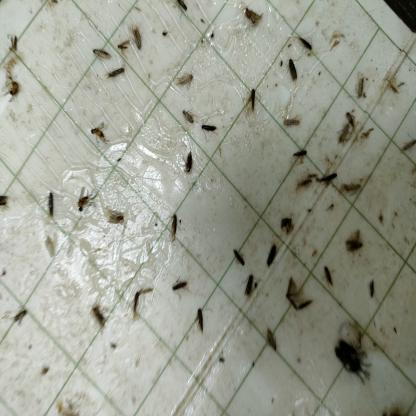prays_oleae: (85, 301, 118, 341), (73, 181, 98, 218), (128, 285, 153, 318), (279, 271, 296, 319), (108, 200, 132, 231), (264, 323, 282, 360), (341, 176, 366, 201), (342, 230, 364, 258), (295, 293, 315, 323), (397, 130, 416, 160), (278, 107, 300, 132), (86, 123, 110, 145), (264, 241, 280, 273), (132, 22, 146, 58), (231, 242, 248, 271), (286, 56, 300, 90), (168, 213, 180, 249), (336, 119, 352, 145), (292, 142, 310, 165), (182, 152, 199, 176), (115, 34, 133, 56), (244, 275, 258, 303), (343, 103, 358, 129), (297, 30, 313, 54), (194, 307, 206, 339), (200, 118, 217, 140), (172, 276, 190, 296), (248, 87, 260, 116), (90, 43, 110, 60), (355, 75, 366, 103), (107, 66, 128, 80), (182, 107, 196, 127), (45, 190, 57, 213), (322, 261, 331, 291), (324, 167, 340, 183), (172, 0, 188, 16)
